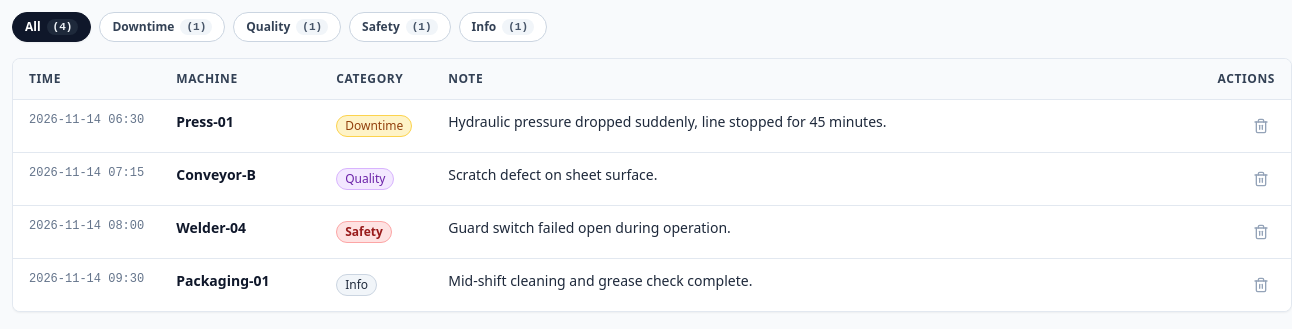
it: EventList Component › Event Deletion Flow › cancels deletion when clicking "Cancel"
Expected: the text "Press-01" is shown, [160,100,320,152]
Click the button named "delete event for press-01" at (1261, 126), box [1247,112,1275,140]
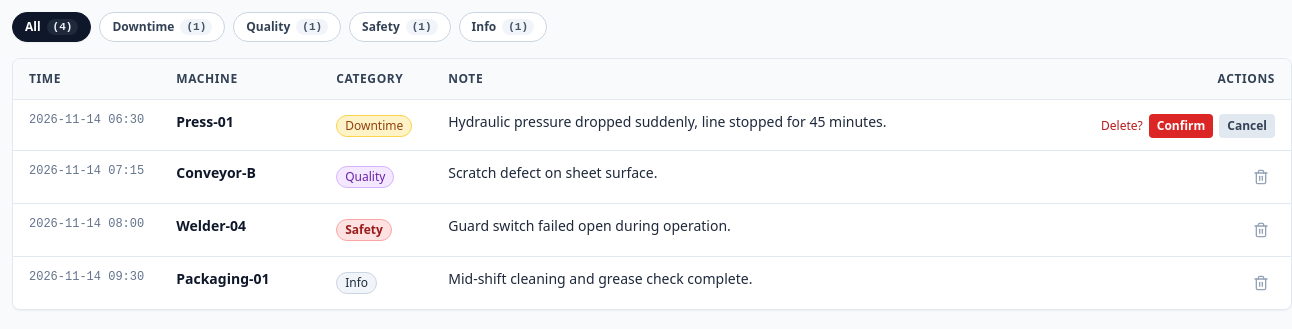
Click the button with aria-label "cancel delete for press-01" at (1247, 126), box [1219,114,1275,138]
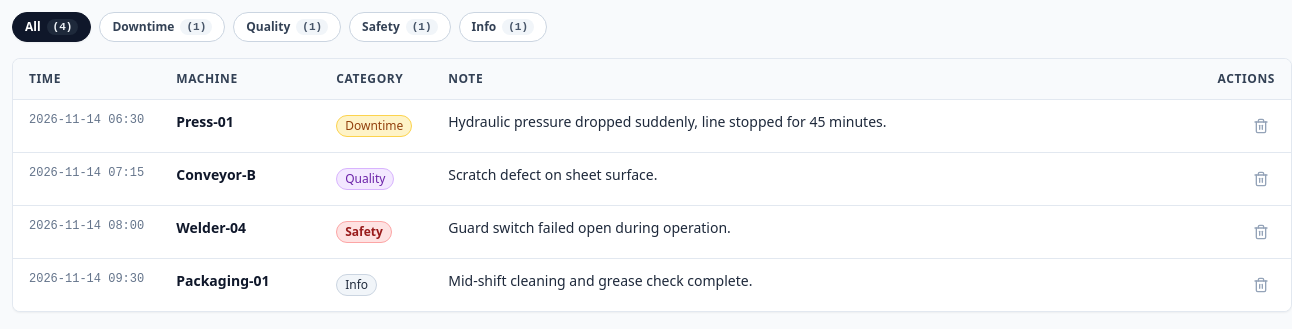
Expected: the text "Press-01" is shown, [160,100,320,152]
Expected: the button named "delete event for press-01" is shown, [1247,112,1275,140]
